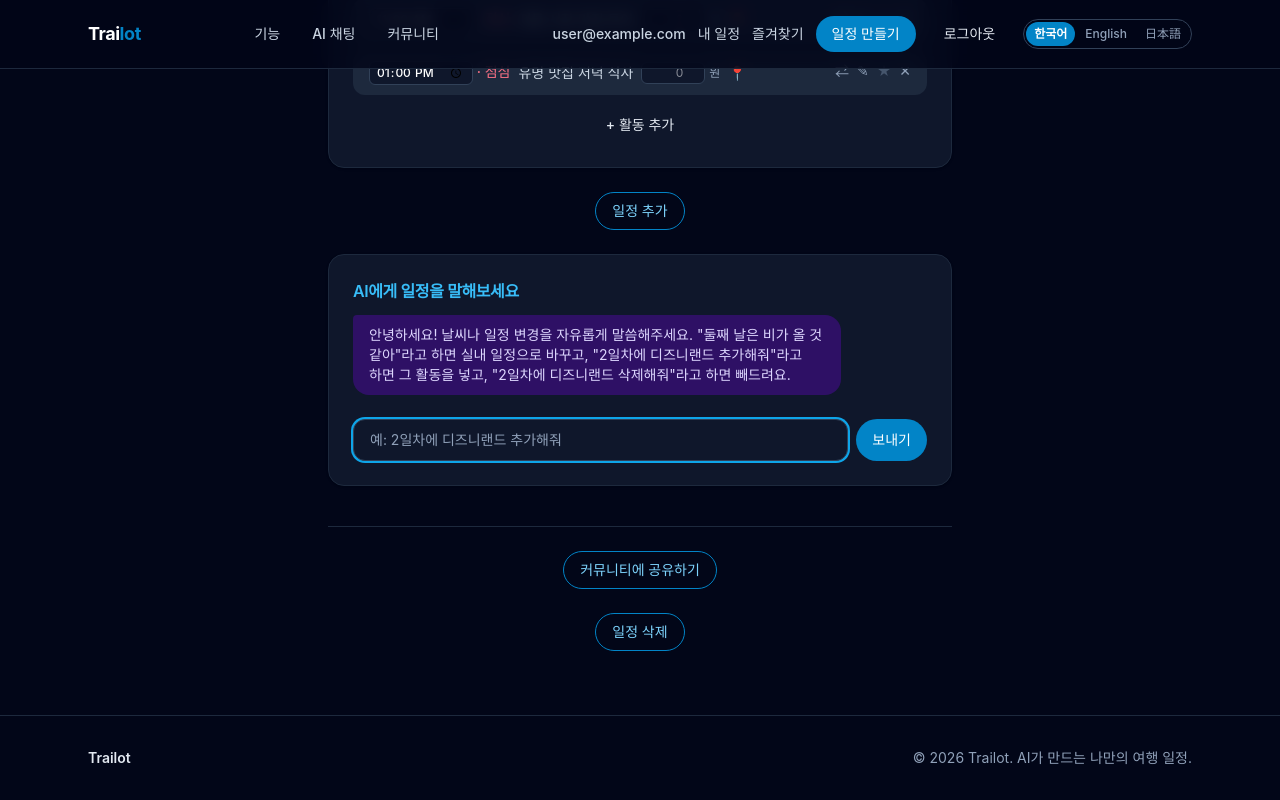
TripDetailPage › publishes the trip to the community when shared, using the first travel style as its tag
The width and height of the screenshot is (1280, 800).
(page scrolled)
Click the button "커뮤니티에 공유하기". click: click(640, 570)
box: [563, 551, 717, 589]
(page scrolled)
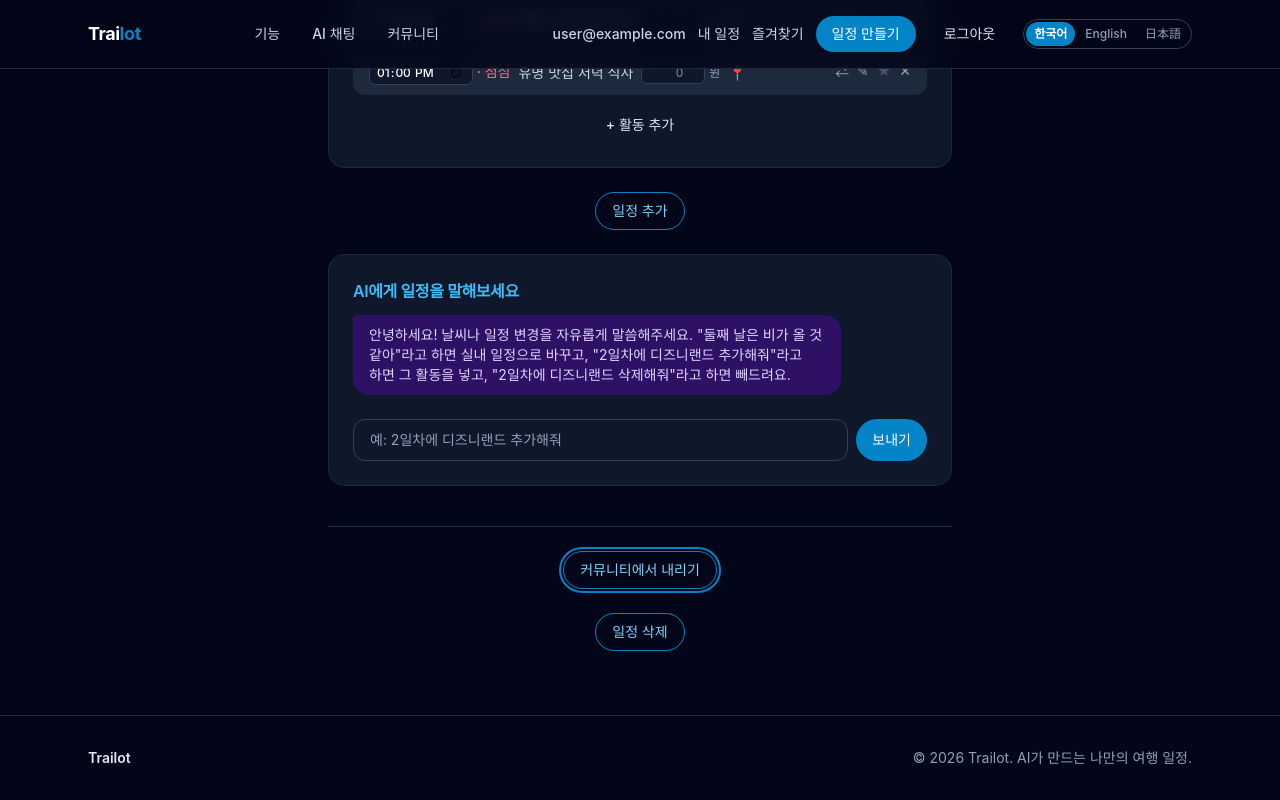
Check: the button "커뮤니티에서 내리기" is shown, box [563, 551, 717, 589]
